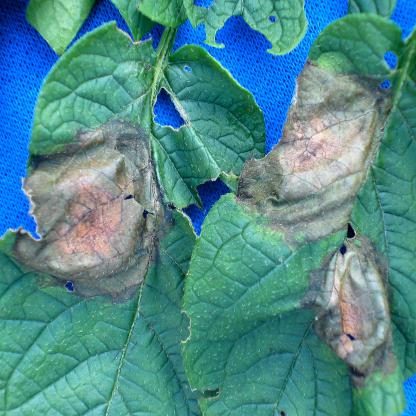Potato leaf late blight: (2, 22, 282, 416), (180, 12, 416, 410)
